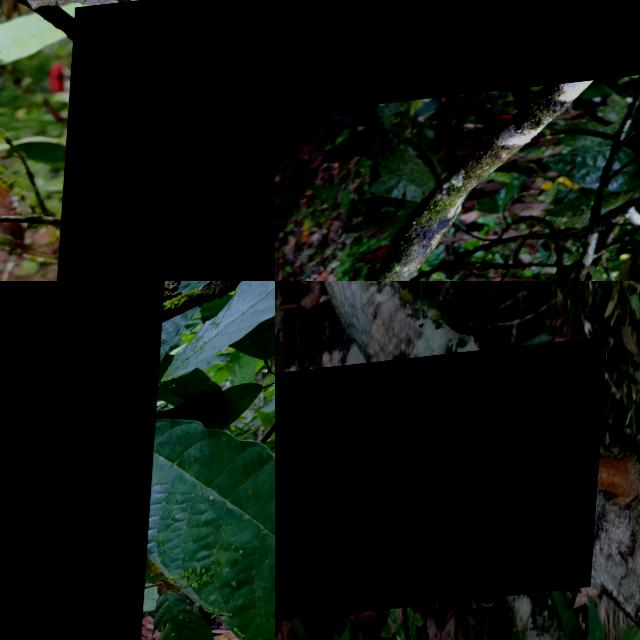Fitoftora: (0, 281, 173, 640), (55, 0, 275, 281)
Monilia: (275, 348, 609, 630), (275, 0, 640, 121)
